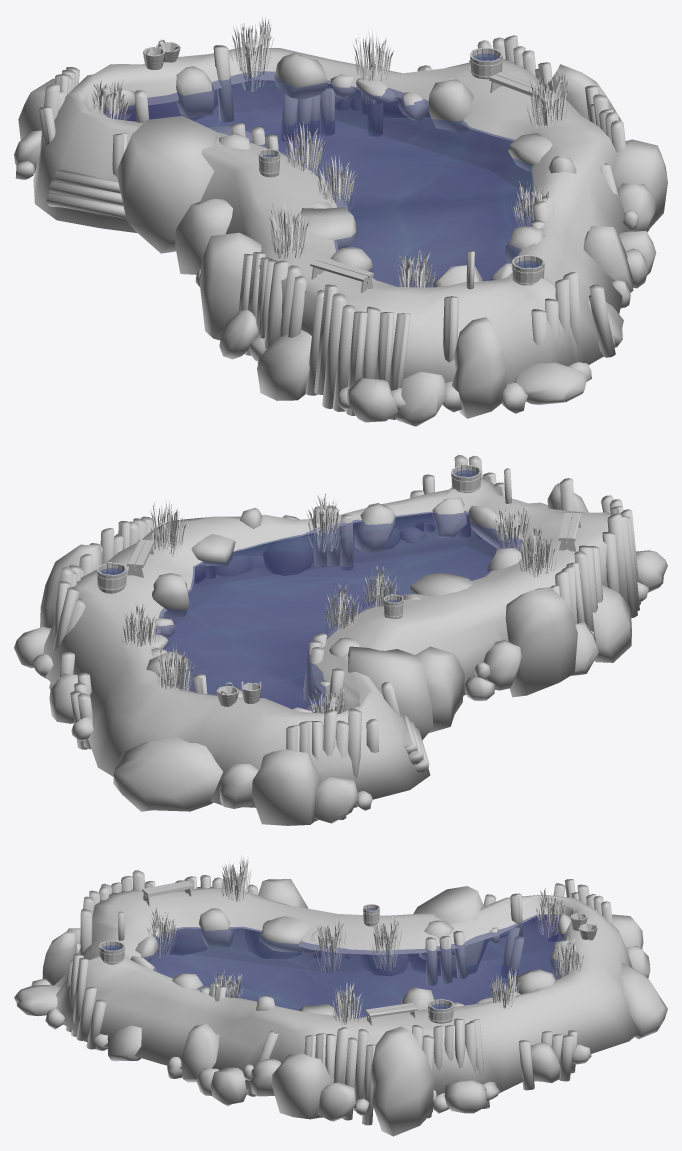
File: Pond2.fbx
3 renders of one model, top to bottom at view 1: azimuth 30°, elevation 25°; view 2: azimuth 150°, elevation 25°; view 3: azimuth 270°, elevation 25°, orthographic. The views are drawn at different scales.
Visible parts, largest first — view 1: Pond.001, Water, Rock.024, Rock.057, Rock.028, Rock.034, Rock.025, Rock.013, Rock.038, Rock.058, Rock.045, Rock.044 (+52 smaller); view 2: Pond.001, Water, Rock.040, Rock.028, Rock.061, Rock.024, Rock.025, Rock.034, Rock.063, Rock.009, Rock.053, Rock.019 (+36 smaller); view 3: Pond.001, Water, Rock.019, Rock.013, Rock.024, Rock.040, Rock.009, Rock.028, Rock.003, Rock.057, Rock.018, Rock.020 (+44 smaller).
Boxes of the visible parts, left/top/right/bottom form: Pond.001: left=33, top=47, right=630, bottom=384; Water: left=103, top=71, right=534, bottom=287; Rock.024: left=116, top=116, right=216, bottom=253; Rock.057: left=452, top=317, right=507, bottom=418; Rock.028: left=200, top=232, right=261, bottom=340; Rock.034: left=257, top=330, right=311, bottom=400; Rock.025: left=175, top=199, right=232, bottom=274; Rock.013: left=613, top=139, right=667, bottom=227; Rock.038: left=514, top=362, right=587, bottom=404; Rock.058: left=395, top=371, right=446, bottom=426; Rock.045: left=274, top=52, right=327, bottom=99; Rock.044: left=428, top=79, right=473, bottom=133; Pond.001: left=43, top=477, right=611, bottom=807; Water: left=155, top=510, right=522, bottom=712; Rock.040: left=113, top=737, right=222, bottom=811; Rock.028: left=505, top=587, right=577, bottom=697; Rock.061: left=251, top=749, right=320, bottom=825; Rock.024: left=348, top=646, right=433, bottom=740; Rock.025: left=415, top=646, right=464, bottom=733; Rock.034: left=592, top=585, right=631, bottom=662; Rock.063: left=314, top=776, right=359, bottom=823; Rock.009: left=263, top=515, right=313, bottom=575; Rock.053: left=354, top=503, right=395, bottom=553; Rock.019: left=40, top=544, right=103, bottom=627; Pond.001: left=54, top=886, right=639, bottom=1107; Water: left=141, top=914, right=566, bottom=1018; Rock.019: left=371, top=1026, right=434, bottom=1136; Rock.013: left=272, top=1053, right=333, bottom=1119; Rock.024: left=407, top=886, right=488, bottom=977; Rock.040: left=619, top=963, right=667, bottom=1039; Rock.009: left=181, top=1023, right=219, bottom=1082; Rock.028: left=245, top=879, right=308, bottom=958; Rock.003: left=259, top=916, right=311, bottom=952; Rock.057: left=42, top=932, right=77, bottom=985; Rock.018: left=444, top=1079, right=486, bottom=1113; Rock.020: left=317, top=1082, right=355, bottom=1121.
Size of what is drawn, in the model's own units: 3272 by 667 by 2199.
